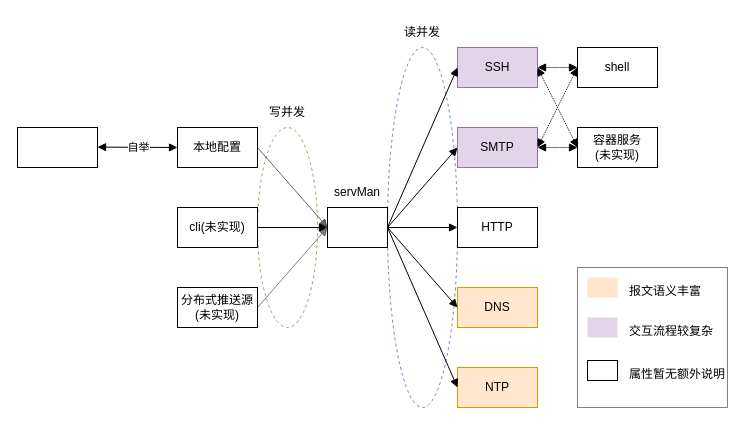
This 755x425 diagram has some shape labels left out. The centre of each missing label's shape, as x and y in pixels:
"b0gus 全局配置" goes at pixel 357 227.
"命令行参数 作为元配置" goes at pixel 57 147.
